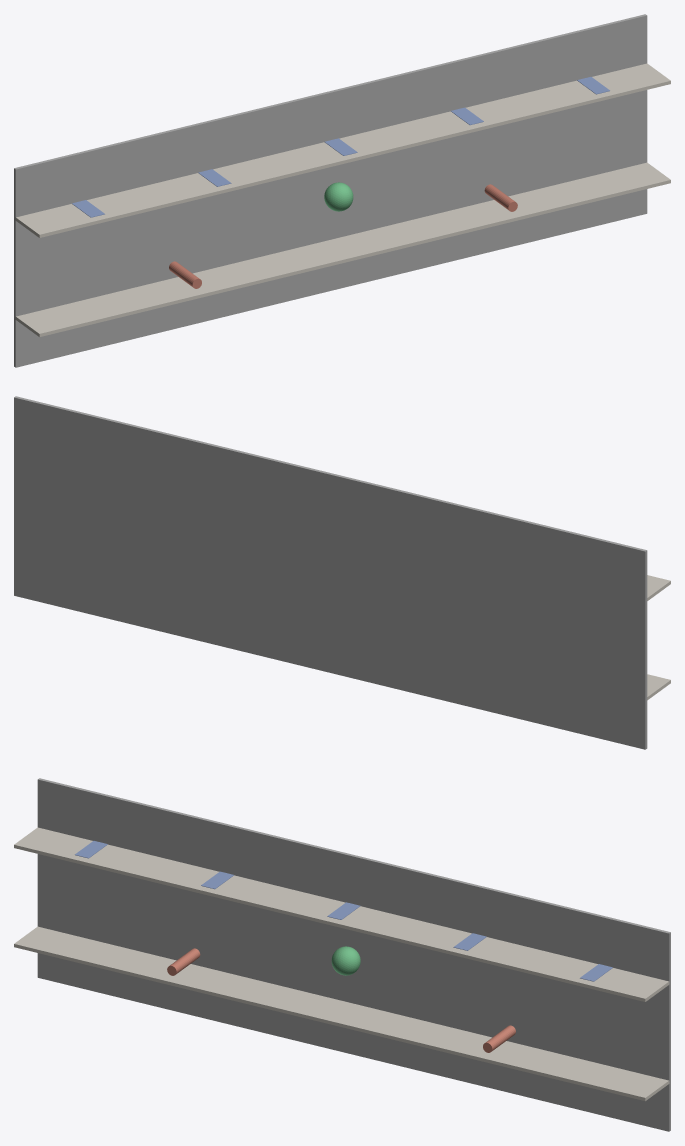
File: trimesh_mesh.gltf
3 views of the same model, one above another, from view 1: azimuth 30°, elevation 25°; view 2: azimuth 150°, elevation 25°; view 3: azimuth 330°, elevation 25° (orthographic).
Visible parts, largest first — view 1: geometry_0; view 2: geometry_0; view 3: geometry_0.
Part boxes in pixels (<box>): geometry_0: <box>14,14,670,367</box>; geometry_0: <box>14,396,670,749</box>; geometry_0: <box>14,778,670,1131</box>.
Size of the model in its own units: 40 by 12 by 2.8.
